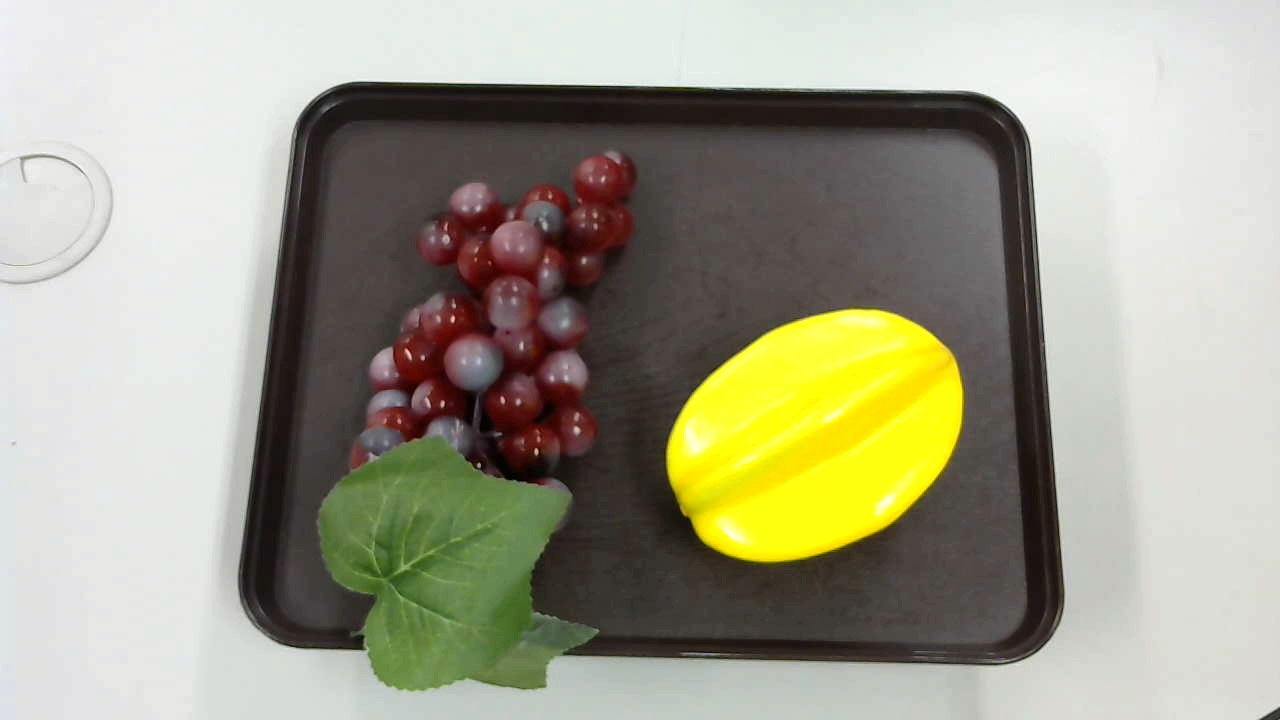grape: (313, 141, 639, 700)
star fruit: (664, 308, 961, 563)
